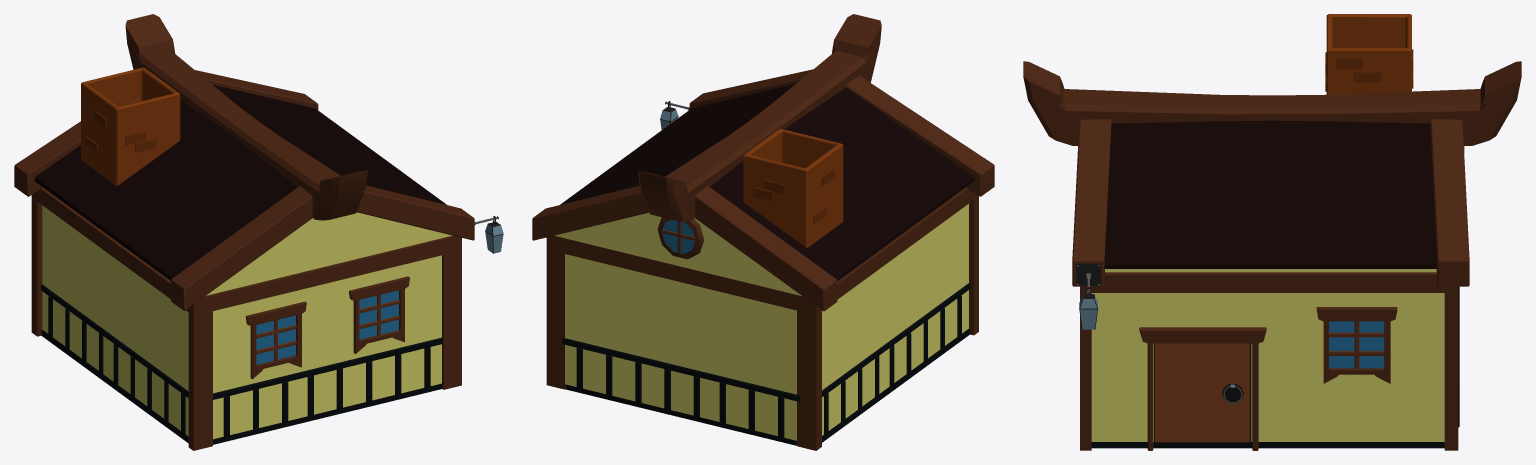
Rendered from MediumHouse.fbx.
The picture shows the model from 3 angles, left to right: view 1: azimuth 30°, elevation 25°; view 2: azimuth 150°, elevation 25°; view 3: azimuth 270°, elevation 25°; orthographic projection. The views are drawn at different scales.
Visible parts, largest first — view 1: MediumHouse_04; view 2: MediumHouse_04; view 3: MediumHouse_04.
Part boxes in pixels (box(x1,y1,x2,y2)): MediumHouse_04: box(14, 14, 503, 450); MediumHouse_04: box(532, 14, 994, 450); MediumHouse_04: box(1023, 14, 1521, 450).
Bounding box in the file's own units: 2213 × 1722 × 2535.
